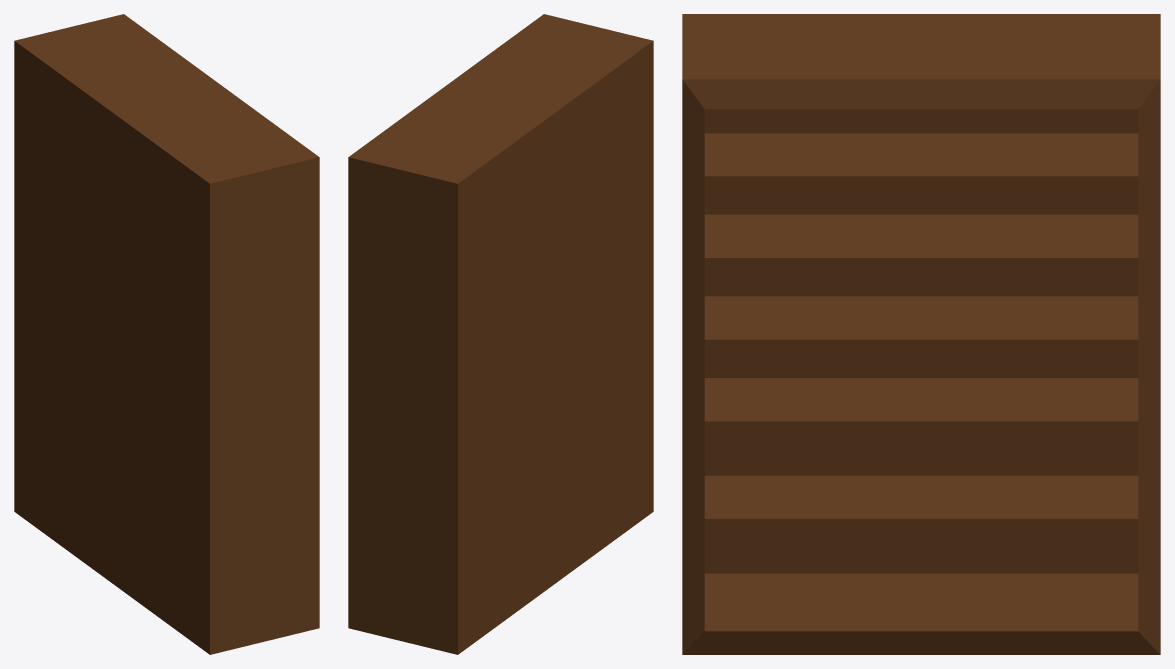
File: Estante1.fbx
3 renders of one model, left to right at view 1: azimuth 30°, elevation 25°; view 2: azimuth 150°, elevation 25°; view 3: azimuth 270°, elevation 25°, orthographic. The views are drawn at different scales.
Parts seen in each view (by area): view 1: Estante 1; view 2: Estante 1; view 3: Estante 1.
Boxes of the visible parts, x1=… form: Estante 1: x1=14, y1=14, x2=319, y2=654; Estante 1: x1=348, y1=14, x2=653, y2=654; Estante 1: x1=682, y1=14, x2=1160, y2=654.
Bounding box in the file's own units: 200 × 784 × 590.
